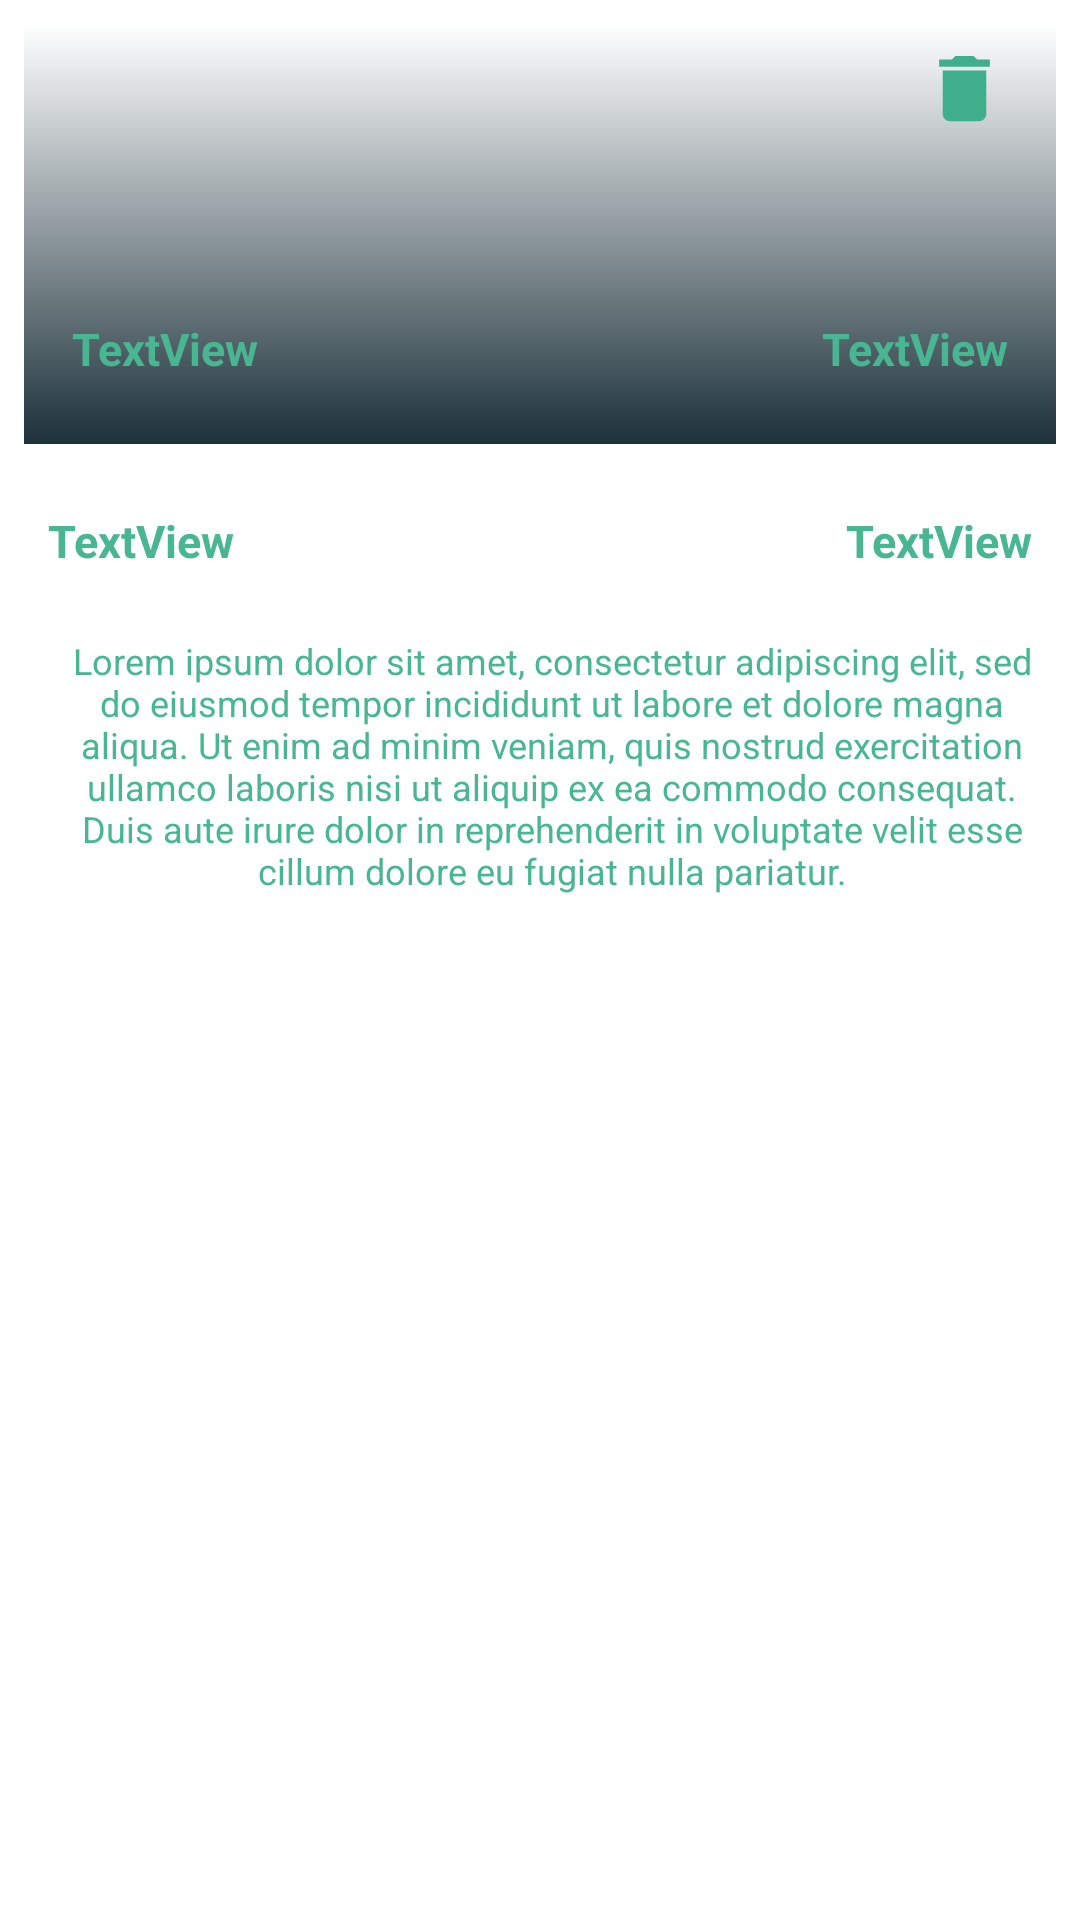

Screen size 1080px×1920px. Icon name, then its center in pixels as point (x, y):
delete: point (964, 88)
